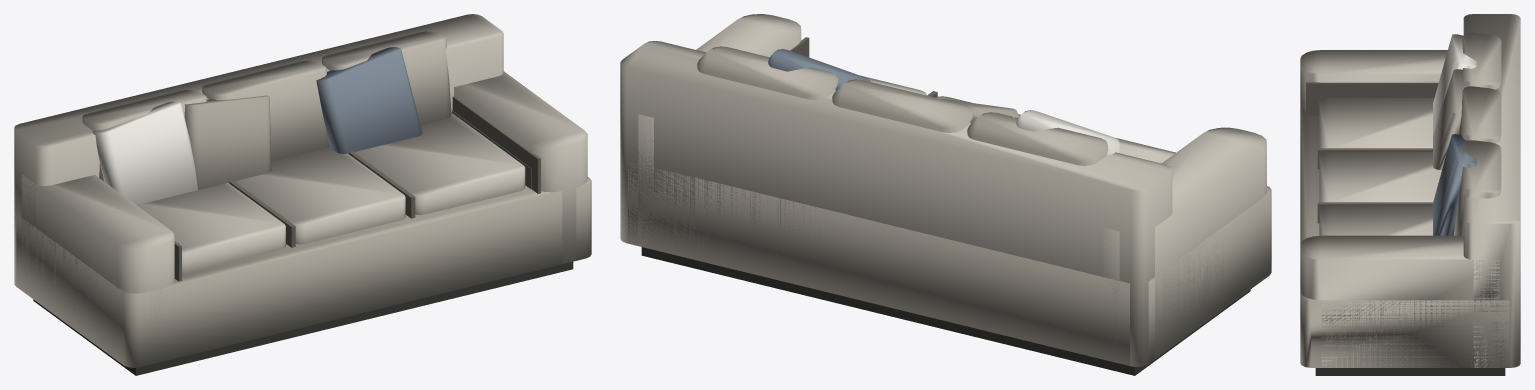
The model's file is sofa_sw.glb.
3 views of the same model, side by side, from view 1: azimuth 30°, elevation 25°; view 2: azimuth 150°, elevation 25°; view 3: azimuth 270°, elevation 25° (orthographic). The views are drawn at different scales.
Parts seen in each view (by area): view 1: root; view 2: root; view 3: root.
Boxes of the visible parts, x1=… form: root: x1=14, y1=14, x2=591, y2=375; root: x1=620, y1=14, x2=1271, y2=375; root: x1=1300, y1=14, x2=1520, y2=375.
Bounding box in the file's own units: 2.44 × 0.9356 × 1.08.
